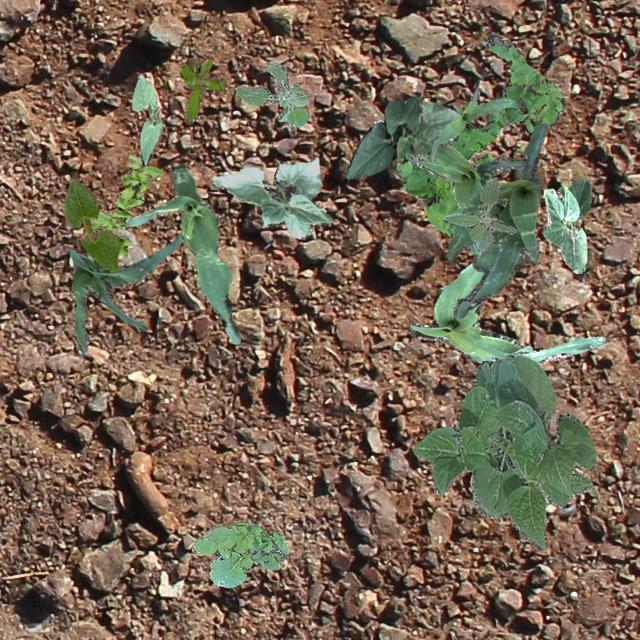crop: (412, 353, 596, 550), (126, 162, 240, 342), (374, 118, 522, 256), (408, 262, 604, 364), (446, 122, 546, 318), (68, 230, 182, 356), (212, 156, 332, 238), (344, 95, 460, 178), (426, 86, 518, 162), (62, 176, 120, 270), (542, 176, 590, 272), (130, 74, 162, 164)
weed: (394, 31, 564, 236), (88, 153, 164, 254), (190, 522, 288, 586), (442, 178, 516, 252), (234, 60, 308, 126), (180, 59, 223, 120)
